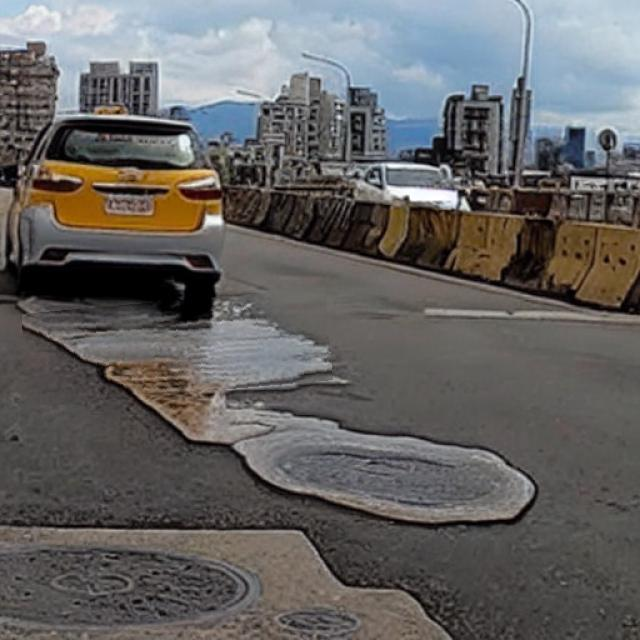puddle: (24, 295, 333, 401)
